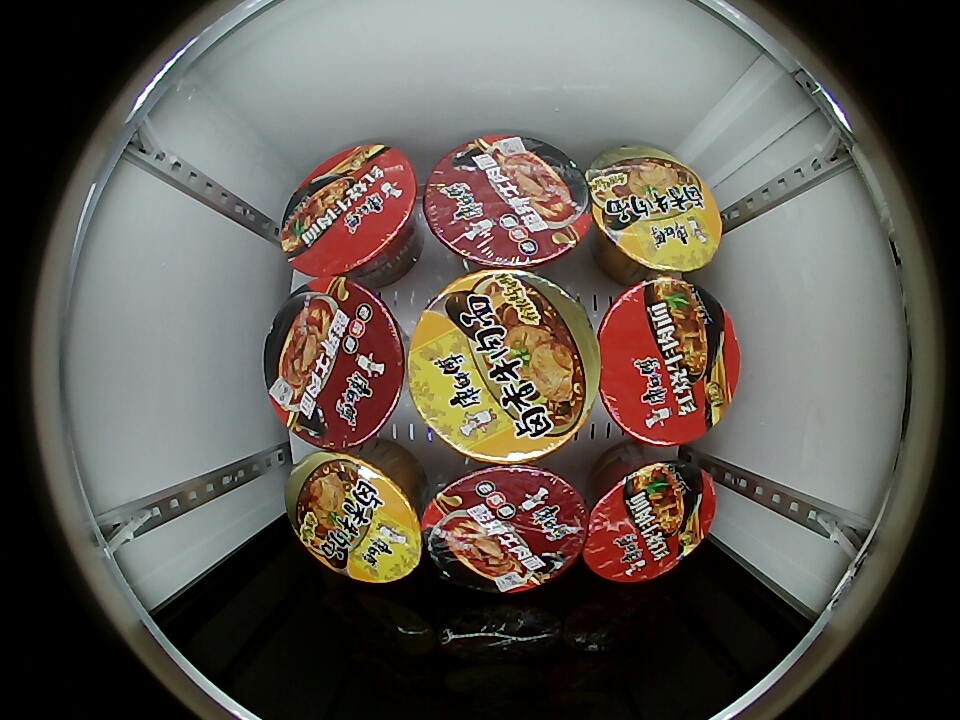hongshaoniurou: (596, 277, 740, 445), (280, 143, 420, 280), (584, 457, 717, 583)
luxiangniurou: (408, 269, 599, 464), (287, 452, 424, 582), (587, 148, 722, 273)
suanlaniurou: (264, 279, 407, 449), (422, 134, 591, 268), (422, 465, 589, 594)
